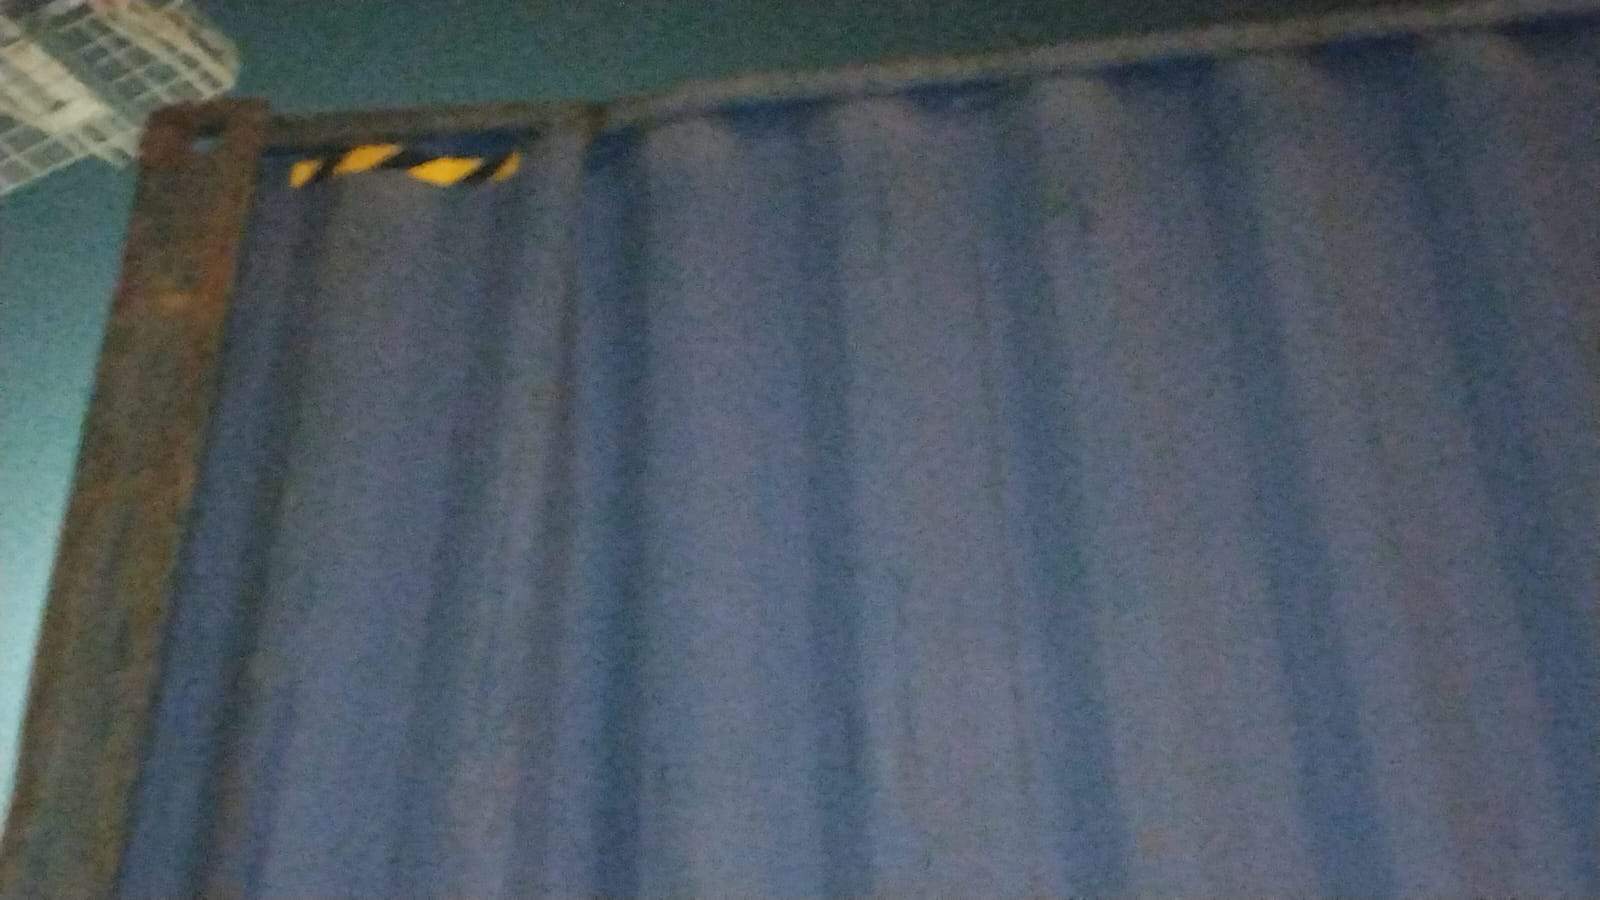dented: (433, 89, 813, 195)
